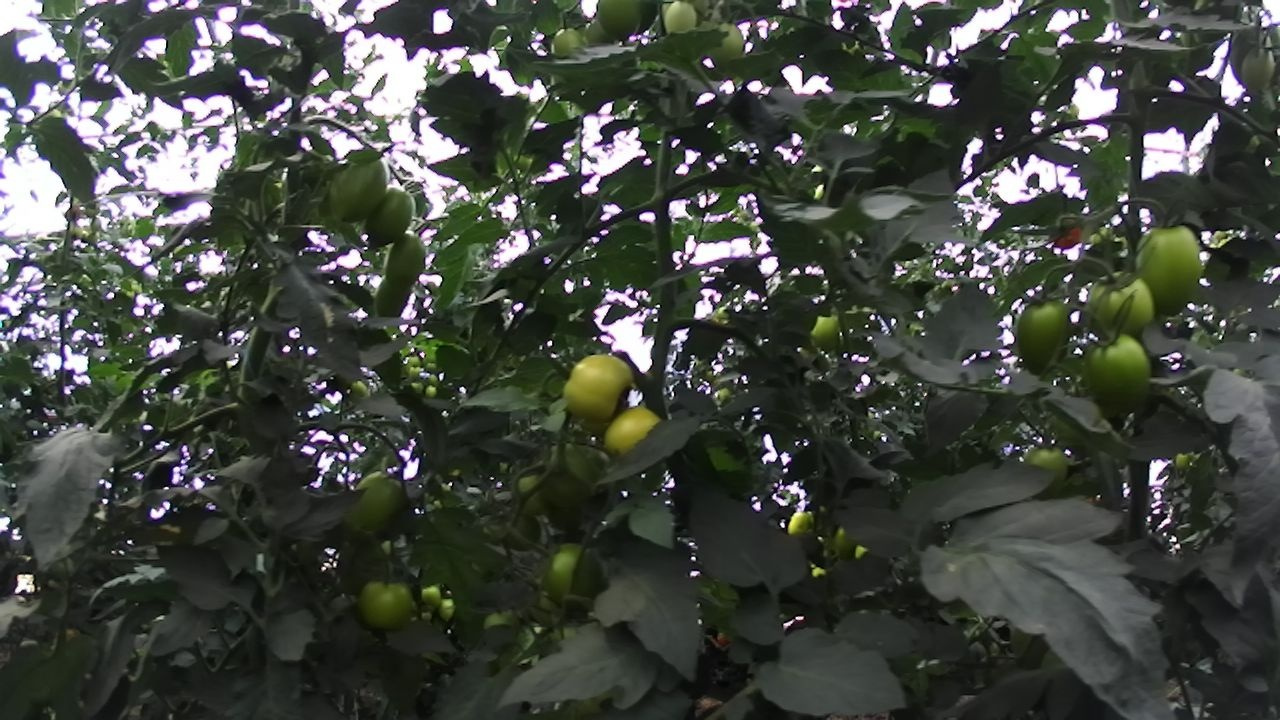tomato: (1123, 206, 1214, 329), (331, 459, 419, 557), (550, 344, 648, 432), (1069, 325, 1158, 418), (320, 143, 405, 240), (1079, 260, 1168, 352), (534, 535, 624, 616), (1006, 287, 1075, 383), (529, 435, 603, 516), (590, 400, 675, 468), (357, 176, 426, 257), (353, 569, 425, 642), (1017, 433, 1082, 503), (363, 266, 422, 335), (1223, 15, 1276, 90), (377, 227, 437, 291), (797, 300, 856, 362), (699, 16, 752, 83), (588, 0, 656, 52), (505, 467, 554, 522), (1235, 40, 1280, 99), (544, 16, 593, 70), (656, 0, 705, 45), (778, 504, 819, 540), (829, 523, 862, 566), (431, 592, 461, 628), (416, 579, 449, 611), (347, 374, 372, 402), (1169, 448, 1194, 474), (422, 381, 442, 400), (406, 364, 424, 383)
